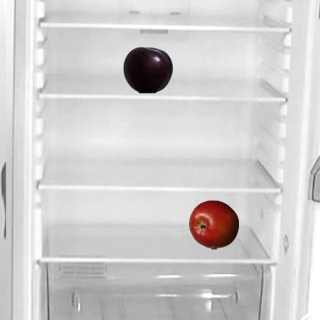Apple Braeburn: (188, 199, 238, 249)
Cherry Wax Black: (122, 44, 172, 94)
